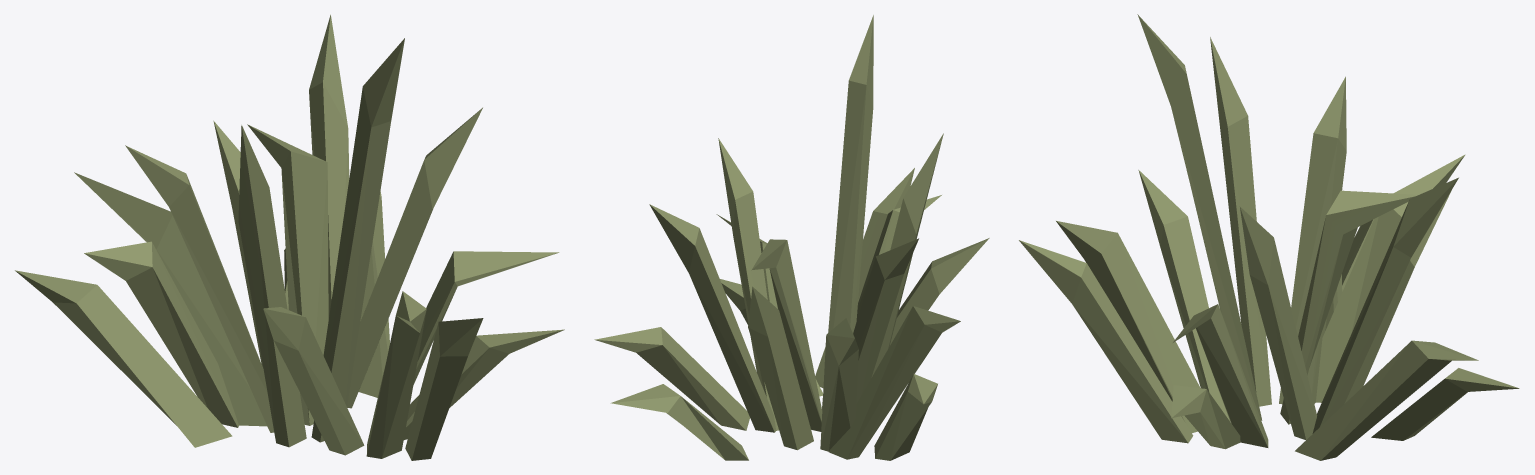
Rendered from SM_Env_Grass_03.fbx.
The picture shows the model from 3 angles, left to right: view 1: azimuth 30°, elevation 25°; view 2: azimuth 150°, elevation 25°; view 3: azimuth 270°, elevation 25°; orthographic projection. The views are drawn at different scales.
Parts seen in each view (by area): view 1: SM_Env_Grass_03; view 2: SM_Env_Grass_03; view 3: SM_Env_Grass_03.
Part boxes in pixels (x1,y1,x2,y2): SM_Env_Grass_03: [15, 14, 564, 460]; SM_Env_Grass_03: [594, 15, 989, 460]; SM_Env_Grass_03: [1019, 14, 1519, 460].
Bounding box in the file's own units: 1.11 × 1.16 × 1.29.
